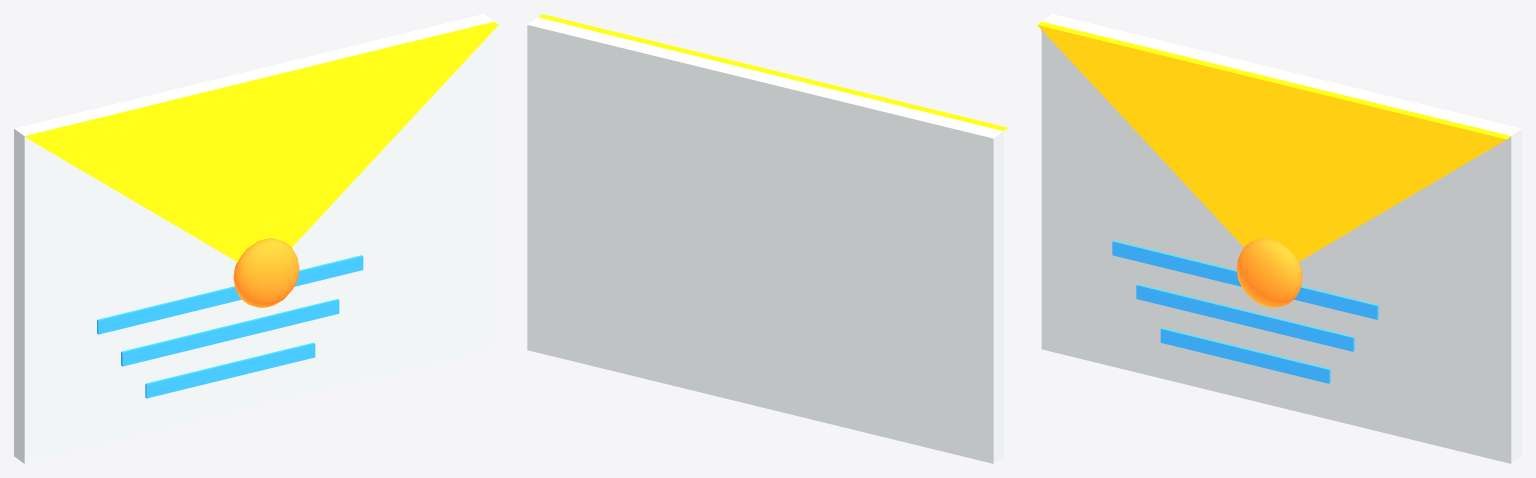
Rendered from envelope.glb.
3 views of the same model, side by side, from view 1: azimuth 30°, elevation 25°; view 2: azimuth 150°, elevation 25°; view 3: azimuth 330°, elevation 25° (orthographic).
Visible parts, largest first — view 1: body, flap, lines, seal; view 2: body, flap; view 3: body, flap, lines, seal.
Boxes of the visible parts, x1,y1,x2,y2 form: body: [14, 14, 494, 463]; flap: [25, 21, 498, 261]; lines: [97, 255, 363, 398]; seal: [233, 238, 299, 307]; body: [527, 17, 1003, 463]; flap: [538, 14, 1008, 131]; body: [1041, 14, 1521, 463]; flap: [1037, 21, 1510, 261]; lines: [1112, 240, 1378, 383]; seal: [1236, 238, 1302, 307].
Size of the model in its own units: 1.56 by 1.04 by 0.1577.
